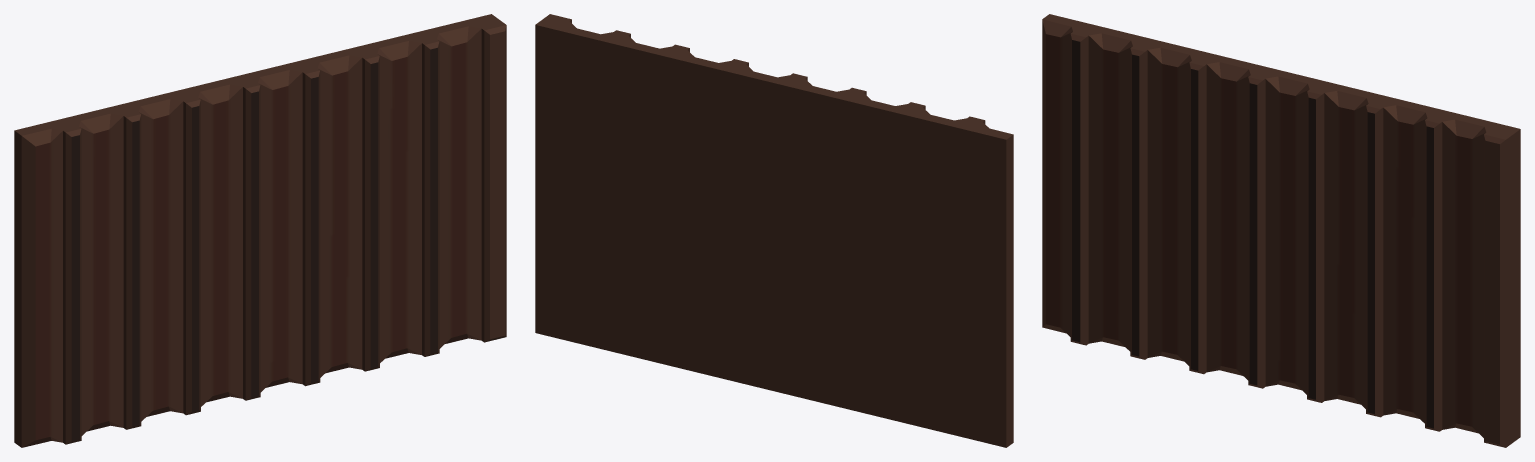
Rendered from GingerWall.fbx.
3 views of the same model, side by side, from view 1: azimuth 30°, elevation 25°; view 2: azimuth 150°, elevation 25°; view 3: azimuth 330°, elevation 25° (orthographic).
Visible parts, largest first — view 1: GingerWall; view 2: GingerWall; view 3: GingerWall.
Part boxes in pixels (left/top/right/bottom): GingerWall: left=14, top=14, right=506, bottom=447; GingerWall: left=535, top=14, right=1013, bottom=447; GingerWall: left=1042, top=14, right=1520, bottom=447.
Bounding box in the file's own units: 400 × 250 × 24.86.
